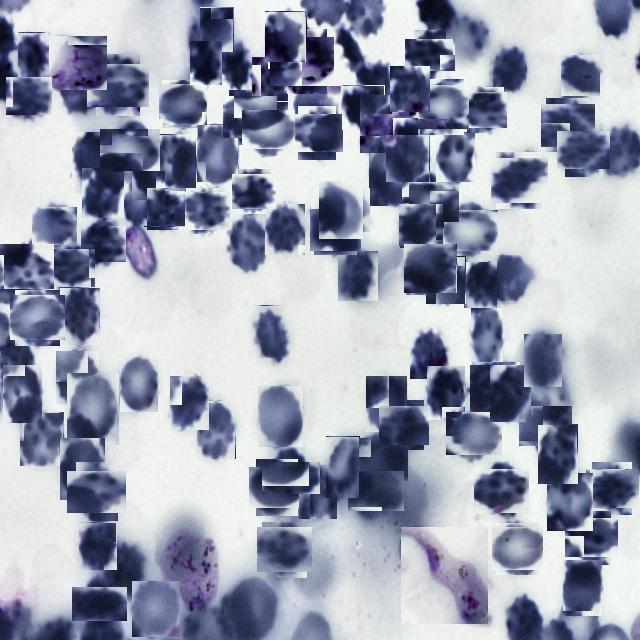red blood cell: (67, 373, 119, 445), (128, 141, 184, 196), (59, 438, 104, 500), (369, 144, 414, 206), (92, 59, 144, 112), (258, 386, 303, 447), (104, 124, 156, 176), (314, 184, 366, 236), (404, 242, 456, 294), (293, 86, 341, 142), (132, 581, 180, 637), (547, 473, 593, 531), (72, 132, 115, 193), (71, 466, 122, 517), (12, 292, 62, 344), (226, 216, 270, 274), (494, 155, 544, 206), (477, 466, 527, 516), (252, 462, 302, 512), (260, 525, 310, 575), (450, 408, 500, 458), (416, 82, 466, 132), (2, 242, 52, 292), (471, 363, 521, 413), (406, 178, 456, 227), (197, 124, 239, 182), (20, 412, 64, 467), (357, 435, 406, 484), (544, 100, 592, 150), (538, 424, 578, 484), (366, 375, 408, 432), (56, 350, 100, 404), (122, 171, 165, 226), (3, 364, 43, 423), (445, 206, 494, 254), (226, 93, 274, 142), (490, 365, 531, 422), (494, 525, 542, 573), (352, 468, 400, 516), (522, 402, 570, 450), (60, 288, 100, 345), (563, 559, 603, 616), (197, 402, 236, 459), (156, 134, 197, 188), (312, 206, 359, 253), (488, 256, 534, 304), (170, 375, 210, 430), (104, 542, 144, 597), (427, 365, 466, 420), (299, 464, 338, 519), (264, 11, 306, 62), (265, 203, 306, 255), (252, 305, 292, 358), (589, 466, 635, 512), (568, 515, 614, 561), (294, 110, 340, 156), (561, 127, 607, 173), (246, 106, 292, 152), (268, 454, 314, 500), (386, 134, 430, 182), (326, 436, 360, 498), (82, 168, 124, 218), (120, 357, 158, 412), (410, 328, 450, 379), (77, 581, 122, 626), (524, 334, 562, 387), (338, 251, 378, 301), (160, 82, 205, 126), (382, 403, 426, 448), (436, 132, 475, 182), (342, 85, 385, 130), (471, 308, 503, 368), (426, 256, 466, 304), (48, 247, 92, 290), (399, 204, 443, 247), (390, 66, 430, 112), (79, 522, 117, 570), (185, 190, 228, 232), (34, 205, 76, 247), (8, 76, 50, 118), (464, 90, 506, 130), (491, 47, 526, 94), (84, 223, 124, 264), (410, 35, 450, 76), (560, 56, 600, 96), (234, 172, 274, 212), (252, 57, 288, 101), (18, 32, 50, 81), (220, 41, 252, 89), (200, 7, 234, 52), (464, 262, 497, 308), (145, 190, 184, 228), (190, 41, 222, 85)
ring: (164, 529, 220, 614)
trophozoite: (401, 526, 489, 624), (360, 94, 419, 153), (274, 33, 331, 90), (50, 36, 106, 91)
